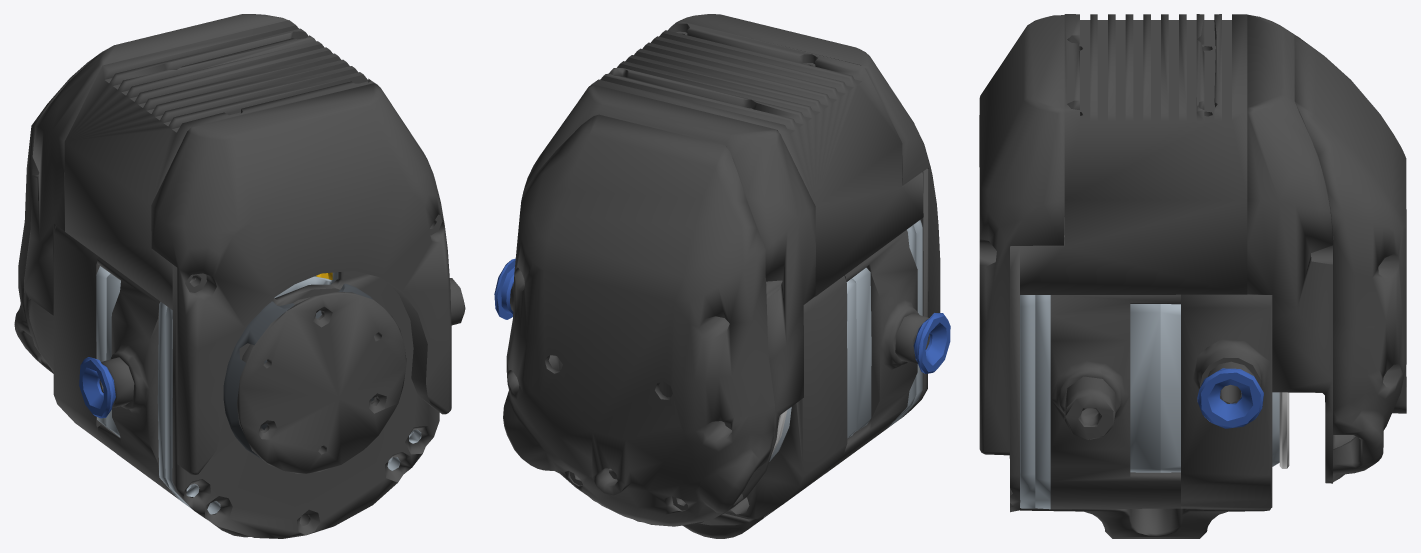
Rendered from l_wrist_x_purdue.obj.
3 renders of one model, left to right at view 1: azimuth 30°, elevation 25°; view 2: azimuth 150°, elevation 25°; view 3: azimuth 270°, elevation 25°, orthographic. The views are drawn at different scales.
Visible parts, largest first — view 1: l_wrist_x_purdue; view 2: l_wrist_x_purdue; view 3: l_wrist_x_purdue.
Boxes of the visible parts, x1,y1,x2,y2 form: l_wrist_x_purdue: (14, 14, 465, 538); l_wrist_x_purdue: (494, 14, 950, 538); l_wrist_x_purdue: (979, 14, 1406, 538).
Bounding box in the file's own units: 0.0865 × 0.1025 × 0.0843.
